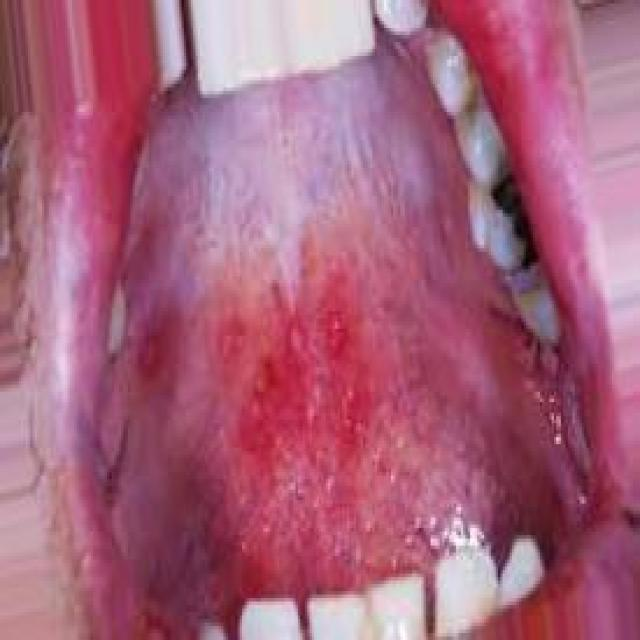caries: (482, 177, 544, 293)
